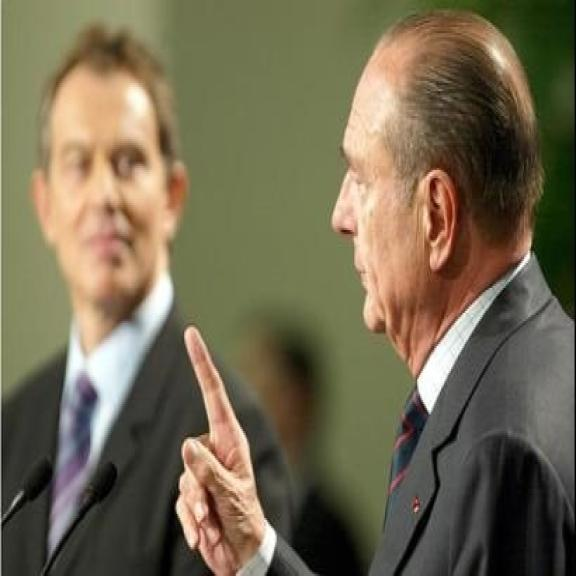face: (328, 17, 462, 380), (25, 69, 191, 311)
